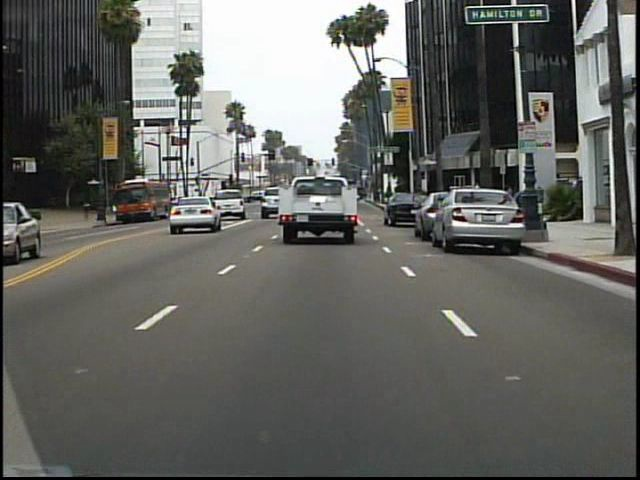person: (81, 198, 93, 224)
